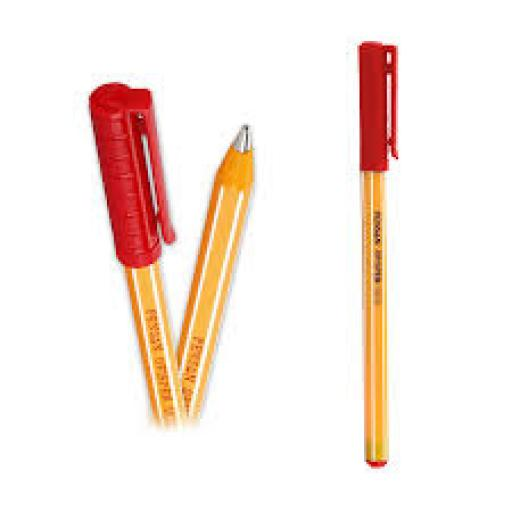tukenmez-kalem: (41, 40, 283, 460), (326, 25, 482, 512)
